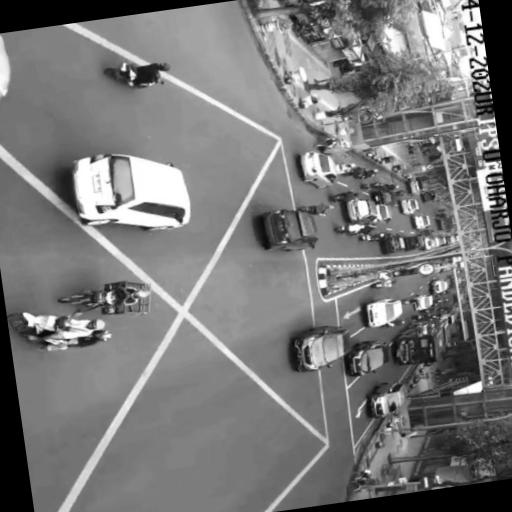bus: (394, 318, 450, 365)
car: (71, 154, 190, 231), (293, 326, 350, 372), (261, 210, 316, 251), (348, 340, 390, 376), (299, 151, 336, 189), (368, 382, 404, 418), (365, 298, 401, 328), (345, 199, 376, 224), (0, 35, 9, 98), (380, 234, 404, 254), (371, 204, 390, 223), (371, 191, 393, 205), (399, 199, 418, 215), (412, 295, 432, 310), (403, 236, 422, 251), (430, 279, 447, 294), (421, 236, 438, 251), (411, 215, 429, 229), (407, 180, 423, 195), (439, 314, 455, 325), (421, 192, 435, 203), (436, 236, 445, 246), (450, 256, 461, 264), (446, 236, 457, 244)
motorcycle: (7, 313, 67, 345), (103, 63, 163, 89), (57, 290, 116, 307), (297, 206, 324, 216), (334, 226, 350, 234), (360, 183, 379, 189), (370, 282, 387, 288), (358, 234, 372, 241), (380, 322, 393, 328), (330, 195, 343, 201), (360, 183, 372, 189), (411, 314, 422, 320), (401, 299, 411, 304)
